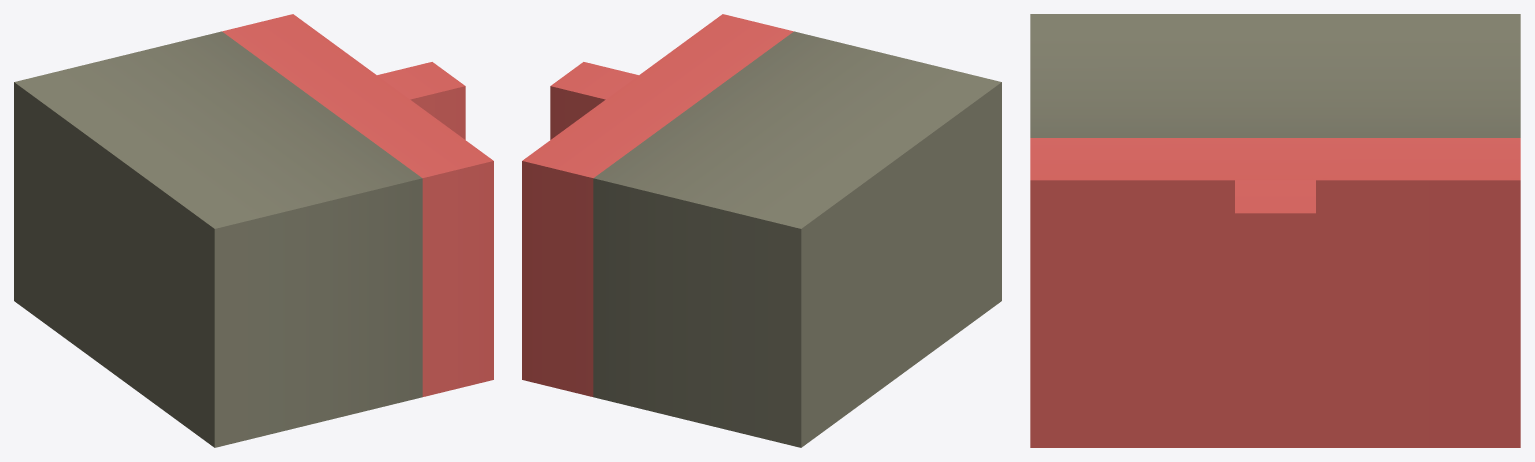
File: SK_Cartridge_Pink.fbx
3 views of the same model, side by side, from view 1: azimuth 30°, elevation 25°; view 2: azimuth 150°, elevation 25°; view 3: azimuth 270°, elevation 25° (orthographic). The views are drawn at different scales.
Visible parts, largest first — view 1: pinkCartridge; view 2: pinkCartridge; view 3: pinkCartridge.
Part boxes in pixels (x1,y1,x2,y2): pinkCartridge: (14, 14, 493, 447); pinkCartridge: (522, 14, 1001, 447); pinkCartridge: (1030, 14, 1520, 447).
Bounding box in the file's own units: 9.38 × 5.87 × 9.74.
